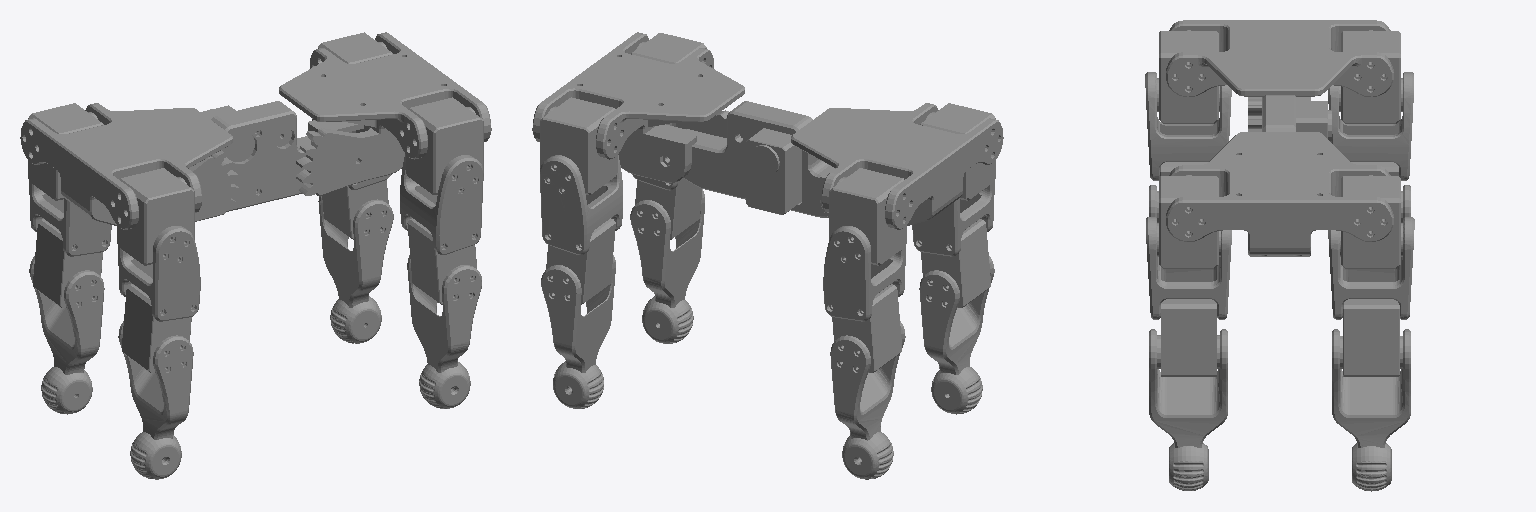
The robot description file, URDF, robot "jason_dog":
<?xml version='1.0' encoding='UTF-8'?>
<!-- This URDF was automatically created by SolidWorks to URDF Exporter! Originally created by Stephen Brawner (brawner@gmail.com) 
     Commit Version: 1.6.0-4-g7f85cfe  Build Version: 1.6.7995.38578
     For more information, please see http://wiki.ros.org/sw_urdf_exporter -->
<robot name="jason_dog">
  <mujoco>
    <compiler
      meshdir="../meshes"
      balanceinertia="true"
      discardvisual="false" />
  </mujoco>
  <link name="base_link">
    <inertial>
      <origin xyz="-0.002290 0.004047 -0.033444" rpy="1.570796 0.000000 0.000000"/>
      <mass value="0.130442285061594"/>
      <inertia ixx="4.245535e-05" ixy="5.712817e-06" ixz="4.594367e-06" iyy="1.484371e-04" iyz="-2.758932e-06" izz="1.306267e-04"/>
    </inertial>
    <visual>
      <origin xyz="0.000000 0.000000 0.000000" rpy="1.570796 0.000000 0.000000"/>
      <geometry>
        <mesh filename="../meshes/base_link.STL"/>
      </geometry>
      <material name="">
        <color rgba="0.627450980392157 0.627450980392157 0.627450980392157 1"/>
      </material>
    </visual>
    <collision>
      <origin xyz="0.000000 0.000000 0.000000" rpy="1.570796 0.000000 0.000000"/>
      <geometry>
        <mesh filename="../meshes/base_link.STL"/>
      </geometry>
    </collision>
  </link>
  <link name="front_link">
    <inertial>
      <origin xyz="0.028726 -0.000635 0.020681" rpy="1.570796 0.000000 0.000000"/>
      <mass value="0.184615067676117"/>
      <inertia ixx="1.411541e-04" ixy="-5.743146e-06" ixz="-8.460480e-06" iyy="1.595492e-04" iyz="-1.957500e-06" izz="2.145533e-04"/>
    </inertial>
    <visual>
      <origin xyz="0.000000 0.000000 0.000000" rpy="1.570796 0.000000 0.000000"/>
      <geometry>
        <mesh filename="../meshes/front_link.STL"/>
      </geometry>
      <material name="">
        <color rgba="0.627450980392157 0.627450980392157 0.627450980392157 1"/>
      </material>
    </visual>
    <collision>
      <origin xyz="0.000000 0.000000 0.000000" rpy="1.570796 0.000000 0.000000"/>
      <geometry>
        <mesh filename="../meshes/front_link.STL"/>
      </geometry>
    </collision>
  </link>
  <joint name="front_joint" type="revolute">
    <origin xyz="0.064338 -0.000000 -0.040039" rpy="0 0 0"/>
    <parent link="base_link"/>
    <child link="front_link"/>
    <axis xyz="0 -1 0"/>
    <limit lower="-3.14" upper="3.14" effort="0" velocity="0"/>
  </joint>
  <link name="FR_hip_link">
    <inertial>
      <origin xyz="-0.019200 0.000000 -0.012026" rpy="1.570796 0.000000 0.000000"/>
      <mass value="0.0611355787912187"/>
      <inertia ixx="1.751372e-05" ixy="3.702329e-13" ixz="3.907029e-12" iyy="1.746902e-05" iyz="2.144316e-13" izz="1.329902e-05"/>
    </inertial>
    <visual>
      <origin xyz="0.000000 0.000000 0.000000" rpy="1.570796 0.000000 0.000000"/>
      <geometry>
        <mesh filename="../meshes/FR_hip_link.STL"/>
      </geometry>
      <material name="">
        <color rgba="0.627450980392157 0.627450980392157 0.627450980392157 1"/>
      </material>
    </visual>
    <collision>
      <origin xyz="0.000000 0.000000 0.000000" rpy="1.570796 0.000000 0.000000"/>
      <geometry>
        <mesh filename="../meshes/FR_hip_link.STL"/>
      </geometry>
    </collision>
  </link>
  <joint name="FR_hip_joint" type="revolute">
    <origin xyz="0.060200 -0.055000 0.027000" rpy="0 0 0"/>
    <parent link="front_link"/>
    <child link="FR_hip_link"/>
    <axis xyz="1 0 0"/>
    <limit lower="-3.14" upper="3.14" effort="0" velocity="0"/>
  </joint>
  <link name="FR_thigh_link">
    <inertial>
      <origin xyz="-0.001902 0.019350 -0.047685" rpy="1.570796 0.000000 0.000000"/>
      <mass value="0.0746776466092141"/>
      <inertia ixx="6.209160e-05" ixy="2.251737e-11" ixz="1.264237e-06" iyy="5.199707e-05" iyz="1.887311e-10" izz="2.176891e-05"/>
    </inertial>
    <visual>
      <origin xyz="0.000000 0.000000 0.000000" rpy="1.570796 0.000000 0.000000"/>
      <geometry>
        <mesh filename="../meshes/FR_thigh_link.STL"/>
      </geometry>
      <material name="">
        <color rgba="0.627450980392157 0.627450980392157 0.627450980392157 1"/>
      </material>
    </visual>
    <collision>
      <origin xyz="0.000000 0.000000 0.000000" rpy="1.570796 0.000000 0.000000"/>
      <geometry>
        <mesh filename="../meshes/FR_thigh_link.STL"/>
      </geometry>
    </collision>
  </link>
  <joint name="FR_thigh_joint" type="revolute">
    <origin xyz="-0.019000 -0.019200 -0.024000" rpy="0 0 0"/>
    <parent link="FR_hip_link"/>
    <child link="FR_thigh_link"/>
    <axis xyz="0 -1 0"/>
    <limit lower="-3.14" upper="3.14" effort="0" velocity="0"/>
  </joint>
  <link name="FR_calf_link">
    <inertial>
      <origin xyz="-0.001793 0.019360 -0.046374" rpy="1.570796 0.000000 0.000000"/>
      <mass value="0.0410076005005065"/>
      <inertia ixx="3.651085e-05" ixy="-7.379921e-10" ixz="8.087944e-07" iyy="3.082907e-05" iyz="1.185545e-08" izz="9.002190e-06"/>
    </inertial>
    <visual>
      <origin xyz="0.000000 0.000000 0.000000" rpy="1.570796 0.000000 0.000000"/>
      <geometry>
        <mesh filename="../meshes/FR_calf_link.STL"/>
      </geometry>
      <material name="">
        <color rgba="0.627450980392157 0.627450980392157 0.627450980392157 1"/>
      </material>
    </visual>
    <collision>
      <origin xyz="0.000000 0.000000 0.000000" rpy="1.570796 0.000000 0.000000"/>
      <geometry>
        <mesh filename="../meshes/FR_calf_link.STL"/>
      </geometry>
    </collision>
  </link>
  <joint name="FR_calf_joint" type="revolute">
    <origin xyz="-0.000200 -0.000200 -0.075000" rpy="0 0 0"/>
    <parent link="FR_thigh_link"/>
    <child link="FR_calf_link"/>
    <axis xyz="0 -1 0"/>
    <limit lower="-3.14" upper="3.14" effort="0" velocity="0"/>
  </joint>
  <link name="FL_hip_link">
    <inertial>
      <origin xyz="-0.019000 -0.000000 -0.012026" rpy="1.570796 0.000000 0.000000"/>
      <mass value="0.0611355927369993"/>
      <inertia ixx="1.751373e-05" ixy="-2.057304e-12" ixz="3.818614e-12" iyy="1.746903e-05" iyz="-3.939114e-13" izz="1.329902e-05"/>
    </inertial>
    <visual>
      <origin xyz="0.000000 0.000000 0.000000" rpy="1.570796 0.000000 0.000000"/>
      <geometry>
        <mesh filename="../meshes/FL_hip_link.STL"/>
      </geometry>
      <material name="">
        <color rgba="0.627450980392157 0.627450980392157 0.627450980392157 1"/>
      </material>
    </visual>
    <collision>
      <origin xyz="0.000000 0.000000 0.000000" rpy="1.570796 0.000000 0.000000"/>
      <geometry>
        <mesh filename="../meshes/FL_hip_link.STL"/>
      </geometry>
    </collision>
  </link>
  <joint name="FL_hip_joint" type="revolute">
    <origin xyz="0.060200 0.055000 0.027000" rpy="0 0 0"/>
    <parent link="front_link"/>
    <child link="FL_hip_link"/>
    <axis xyz="1 0 0"/>
    <limit lower="-3.14" upper="3.14" effort="0" velocity="0"/>
  </joint>
  <link name="FL_thigh_link">
    <inertial>
      <origin xyz="-0.001702 -0.018950 -0.047685" rpy="1.570796 0.000000 0.000000"/>
      <mass value="0.0746776095700565"/>
      <inertia ixx="6.209159e-05" ixy="4.147773e-12" ixz="1.264231e-06" iyy="5.199706e-05" iyz="2.860692e-10" izz="2.176889e-05"/>
    </inertial>
    <visual>
      <origin xyz="0.000000 0.000000 0.000000" rpy="1.570796 0.000000 0.000000"/>
      <geometry>
        <mesh filename="../meshes/FL_thigh_link.STL"/>
      </geometry>
      <material name="">
        <color rgba="0.627450980392157 0.627450980392157 0.627450980392157 1"/>
      </material>
    </visual>
    <collision>
      <origin xyz="0.000000 0.000000 0.000000" rpy="1.570796 0.000000 0.000000"/>
      <geometry>
        <mesh filename="../meshes/FL_thigh_link.STL"/>
      </geometry>
    </collision>
  </link>
  <joint name="FL_thigh_joint" type="revolute">
    <origin xyz="-0.019000 0.019200 -0.024000" rpy="0 0 0"/>
    <parent link="FL_hip_link"/>
    <child link="FL_thigh_link"/>
    <axis xyz="0 -1 0"/>
    <limit lower="-3.14" upper="3.14" effort="0" velocity="0"/>
  </joint>
  <link name="FL_calf_link">
    <inertial>
      <origin xyz="-0.001793 -0.019160 -0.046374" rpy="1.570796 0.000000 0.000000"/>
      <mass value="0.0410075916655381"/>
      <inertia ixx="3.651088e-05" ixy="7.283229e-10" ixz="8.087990e-07" iyy="3.082910e-05" iyz="-1.175964e-08" izz="9.002190e-06"/>
    </inertial>
    <visual>
      <origin xyz="0.000000 0.000000 0.000000" rpy="1.570796 0.000000 0.000000"/>
      <geometry>
        <mesh filename="../meshes/FL_calf_link.STL"/>
      </geometry>
      <material name="">
        <color rgba="0.627450980392157 0.627450980392157 0.627450980392157 1"/>
      </material>
    </visual>
    <collision>
      <origin xyz="0.000000 0.000000 0.000000" rpy="1.570796 0.000000 0.000000"/>
      <geometry>
        <mesh filename="../meshes/FL_calf_link.STL"/>
      </geometry>
    </collision>
  </link>
  <joint name="FL_calf_joint" type="revolute">
    <origin xyz="0.000000 0.000400 -0.075000" rpy="0 0 0"/>
    <parent link="FL_thigh_link"/>
    <child link="FL_calf_link"/>
    <axis xyz="0 -1 0"/>
    <limit lower="-3.14" upper="3.14" effort="0" velocity="0"/>
  </joint>
  <link name="rear_link">
    <inertial>
      <origin xyz="-0.028749 -0.000634 0.020823" rpy="1.570796 0.000000 0.000000"/>
      <mass value="0.184845508774265"/>
      <inertia ixx="1.406118e-04" ixy="5.681909e-06" ixz="7.325653e-06" iyy="1.586497e-04" iyz="-1.641600e-06" izz="2.144695e-04"/>
    </inertial>
    <visual>
      <origin xyz="0.000000 0.000000 0.000000" rpy="1.570796 0.000000 0.000000"/>
      <geometry>
        <mesh filename="../meshes/rear_link.STL"/>
      </geometry>
      <material name="">
        <color rgba="0.627450980392157 0.627450980392157 0.627450980392157 1"/>
      </material>
    </visual>
    <collision>
      <origin xyz="0.000000 0.000000 0.000000" rpy="1.570796 0.000000 0.000000"/>
      <geometry>
        <mesh filename="../meshes/rear_link.STL"/>
      </geometry>
    </collision>
  </link>
  <joint name="rear_joint" type="revolute">
    <origin xyz="-0.060662 -0.000000 -0.040039" rpy="0 0 0"/>
    <parent link="base_link"/>
    <child link="rear_link"/>
    <axis xyz="0 -1 0"/>
    <limit lower="-3.14" upper="3.14" effort="0" velocity="0"/>
  </joint>
  <link name="RR_hip_link">
    <inertial>
      <origin xyz="0.019000 -0.000000 -0.012026" rpy="1.570796 0.000000 0.000000"/>
      <mass value="0.061135578791219"/>
      <inertia ixx="1.751372e-05" ixy="3.702330e-13" ixz="3.115034e-13" iyy="1.746903e-05" iyz="-3.585852e-12" izz="1.329902e-05"/>
    </inertial>
    <visual>
      <origin xyz="0.000000 0.000000 0.000000" rpy="1.570796 0.000000 0.000000"/>
      <geometry>
        <mesh filename="../meshes/RR_hip_link.STL"/>
      </geometry>
      <material name="">
        <color rgba="0.627450980392157 0.627450980392157 0.627450980392157 1"/>
      </material>
    </visual>
    <collision>
      <origin xyz="0.000000 0.000000 0.000000" rpy="1.570796 0.000000 0.000000"/>
      <geometry>
        <mesh filename="../meshes/RR_hip_link.STL"/>
      </geometry>
    </collision>
  </link>
  <joint name="RR_hip_joint" type="revolute">
    <origin xyz="-0.060000 -0.055000 0.027000" rpy="0 0 0"/>
    <parent link="rear_link"/>
    <child link="RR_hip_link"/>
    <axis xyz="1 0 0"/>
    <limit lower="-3.14" upper="3.14" effort="0" velocity="0"/>
  </joint>
  <link name="RR_thigh_link">
    <inertial>
      <origin xyz="0.001702 0.019150 -0.047685" rpy="1.570796 0.000000 0.000000"/>
      <mass value="0.0746773882614897"/>
      <inertia ixx="6.209169e-05" ixy="6.598184e-12" ixz="-1.264205e-06" iyy="5.199717e-05" iyz="-2.938705e-10" izz="2.176892e-05"/>
    </inertial>
    <visual>
      <origin xyz="0.000000 0.000000 0.000000" rpy="1.570796 0.000000 0.000000"/>
      <geometry>
        <mesh filename="../meshes/RR_thigh_link.STL"/>
      </geometry>
      <material name="">
        <color rgba="0.627450980392157 0.627450980392157 0.627450980392157 1"/>
      </material>
    </visual>
    <collision>
      <origin xyz="0.000000 0.000000 0.000000" rpy="1.570796 0.000000 0.000000"/>
      <geometry>
        <mesh filename="../meshes/RR_thigh_link.STL"/>
      </geometry>
    </collision>
  </link>
  <joint name="RR_thigh_joint" type="revolute">
    <origin xyz="0.019000 -0.019200 -0.024000" rpy="0 0 0"/>
    <parent link="RR_hip_link"/>
    <child link="RR_thigh_link"/>
    <axis xyz="0 1 -0"/>
    <limit lower="-3.14" upper="3.14" effort="0" velocity="0"/>
  </joint>
  <link name="RR_calf_link">
    <inertial>
      <origin xyz="0.001793 0.019160 -0.046374" rpy="1.570796 0.000000 0.000000"/>
      <mass value="0.0410075780181199"/>
      <inertia ixx="3.651086e-05" ixy="7.306164e-10" ixz="-8.087940e-07" iyy="3.082908e-05" iyz="1.176667e-08" izz="9.002184e-06"/>
    </inertial>
    <visual>
      <origin xyz="0.000000 0.000000 0.000000" rpy="1.570796 0.000000 0.000000"/>
      <geometry>
        <mesh filename="../meshes/RR_calf_link.STL"/>
      </geometry>
      <material name="">
        <color rgba="0.627450980392157 0.627450980392157 0.627450980392157 1"/>
      </material>
    </visual>
    <collision>
      <origin xyz="0.000000 0.000000 0.000000" rpy="1.570796 0.000000 0.000000"/>
      <geometry>
        <mesh filename="../meshes/RR_calf_link.STL"/>
      </geometry>
    </collision>
  </link>
  <joint name="RR_calf_joint" type="revolute">
    <origin xyz="0.000000 -0.000200 -0.075000" rpy="0 0 0"/>
    <parent link="RR_thigh_link"/>
    <child link="RR_calf_link"/>
    <axis xyz="0 1 -0"/>
    <limit lower="-3.14" upper="3.14" effort="0" velocity="0"/>
  </joint>
  <link name="RL_hip_link">
    <inertial>
      <origin xyz="0.019000 -0.000000 -0.012026" rpy="1.570796 0.000000 0.000000"/>
      <mass value="0.061135578791219"/>
      <inertia ixx="1.751372e-05" ixy="3.702330e-13" ixz="3.409976e-12" iyy="1.746902e-05" iyz="-3.254754e-13" izz="1.329902e-05"/>
    </inertial>
    <visual>
      <origin xyz="0.000000 0.000000 0.000000" rpy="1.570796 0.000000 0.000000"/>
      <geometry>
        <mesh filename="../meshes/RL_hip_link.STL"/>
      </geometry>
      <material name="">
        <color rgba="0.627450980392157 0.627450980392157 0.627450980392157 1"/>
      </material>
    </visual>
    <collision>
      <origin xyz="0.000000 0.000000 0.000000" rpy="1.570796 0.000000 0.000000"/>
      <geometry>
        <mesh filename="../meshes/RL_hip_link.STL"/>
      </geometry>
    </collision>
  </link>
  <joint name="RL_hip_joint" type="revolute">
    <origin xyz="-0.060000 0.055000 0.027000" rpy="0 0 0"/>
    <parent link="rear_link"/>
    <child link="RL_hip_link"/>
    <axis xyz="1 0 0"/>
    <limit lower="-3.14" upper="3.14" effort="0" velocity="0"/>
  </joint>
  <link name="RL_thigh_link">
    <inertial>
      <origin xyz="0.001702 -0.019150 -0.047685" rpy="1.570796 0.000000 0.000000"/>
      <mass value="0.0746774052689211"/>
      <inertia ixx="6.209169e-05" ixy="2.275874e-11" ixz="-1.264214e-06" iyy="5.199717e-05" iyz="-1.975665e-10" izz="2.176892e-05"/>
    </inertial>
    <visual>
      <origin xyz="0.000000 0.000000 0.000000" rpy="1.570796 0.000000 0.000000"/>
      <geometry>
        <mesh filename="../meshes/RL_thigh_link.STL"/>
      </geometry>
      <material name="">
        <color rgba="0.627450980392157 0.627450980392157 0.627450980392157 1"/>
      </material>
    </visual>
    <collision>
      <origin xyz="0.000000 0.000000 0.000000" rpy="1.570796 0.000000 0.000000"/>
      <geometry>
        <mesh filename="../meshes/RL_thigh_link.STL"/>
      </geometry>
    </collision>
  </link>
  <joint name="RL_thigh_joint" type="revolute">
    <origin xyz="0.019000 0.019200 -0.024000" rpy="0 0 0"/>
    <parent link="RL_hip_link"/>
    <child link="RL_thigh_link"/>
    <axis xyz="0 1 0"/>
    <limit lower="-3.14" upper="3.14" effort="0" velocity="0"/>
  </joint>
  <link name="RL_calf_link">
    <inertial>
      <origin xyz="0.001793 -0.019160 -0.046374" rpy="1.570796 0.000000 0.000000"/>
      <mass value="0.0410075980891143"/>
      <inertia ixx="3.651085e-05" ixy="-7.380374e-10" ixz="-8.087939e-07" iyy="3.082907e-05" iyz="-1.185562e-08" izz="9.002189e-06"/>
    </inertial>
    <visual>
      <origin xyz="0.000000 0.000000 0.000000" rpy="1.570796 0.000000 0.000000"/>
      <geometry>
        <mesh filename="../meshes/RL_calf_link.STL"/>
      </geometry>
      <material name="">
        <color rgba="0.627450980392157 0.627450980392157 0.627450980392157 1"/>
      </material>
    </visual>
    <collision>
      <origin xyz="0.000000 0.000000 0.000000" rpy="1.570796 0.000000 0.000000"/>
      <geometry>
        <mesh filename="../meshes/RL_calf_link.STL"/>
      </geometry>
    </collision>
  </link>
  <joint name="RL_calf_joint" type="revolute">
    <origin xyz="0.000000 0.000200 -0.075000" rpy="0 0 0"/>
    <parent link="RL_thigh_link"/>
    <child link="RL_calf_link"/>
    <axis xyz="0 1 0"/>
    <limit lower="-3.14" upper="3.14" effort="0" velocity="0"/>
  </joint>
</robot>

--- Render facts (derived) ---
The picture shows the robot from 3 angles, left to right: view 1: azimuth 30°, elevation 25°; view 2: azimuth 150°, elevation 25°; view 3: azimuth 270°, elevation 25°; orthographic projection.
Model jason_dog with 15 links and 14 joints (14 revolute), rooted at base_link, posed every joint at zero.
Visible links, largest first — view 1: front_link, rear_link, FR_thigh_link, RR_thigh_link, base_link, FR_calf_link, FL_calf_link, RR_calf_link, RL_calf_link, RL_thigh_link, RR_hip_link, FR_hip_link (+3 smaller); view 2: front_link, rear_link, base_link, FL_thigh_link, RL_thigh_link, FL_calf_link, FR_calf_link, RL_calf_link, RR_calf_link, RR_thigh_link, RL_hip_link, FL_hip_link (+3 smaller); view 3: front_link, rear_link, FL_thigh_link, FR_thigh_link, FL_calf_link, FR_calf_link, RR_thigh_link, RL_thigh_link, FR_hip_link, RL_hip_link, FL_hip_link, RR_hip_link (+1 smaller).
Link boxes in pixels (x1,y1,x2,y2): front_link: [279, 32, 491, 195]; rear_link: [20, 103, 240, 229]; FR_thigh_link: [400, 154, 483, 304]; RR_thigh_link: [118, 226, 200, 372]; base_link: [201, 101, 310, 211]; FR_calf_link: [407, 255, 481, 408]; FL_calf_link: [318, 196, 393, 343]; RR_calf_link: [118, 321, 193, 479]; RL_calf_link: [29, 256, 104, 414]; RL_thigh_link: [29, 181, 111, 307]; RR_hip_link: [117, 168, 194, 265]; FR_hip_link: [406, 97, 483, 194]; front_link: [532, 32, 744, 182]; rear_link: [791, 103, 1003, 229]; base_link: [684, 101, 833, 217]; FL_thigh_link: [540, 155, 622, 304]; RL_thigh_link: [823, 226, 905, 372]; FL_calf_link: [541, 255, 615, 408]; FR_calf_link: [630, 189, 704, 343]; RL_calf_link: [830, 321, 905, 479]; RR_calf_link: [919, 256, 994, 414]; RR_thigh_link: [912, 181, 994, 307]; RL_hip_link: [829, 168, 906, 265]; FL_hip_link: [540, 97, 617, 194]; front_link: [1166, 132, 1393, 256]; rear_link: [1166, 20, 1393, 131]; FL_thigh_link: [1328, 217, 1414, 376]; FR_thigh_link: [1146, 217, 1231, 376]; FL_calf_link: [1332, 329, 1410, 491]; FR_calf_link: [1149, 329, 1227, 490]; RR_thigh_link: [1145, 72, 1231, 222]; RL_thigh_link: [1328, 72, 1413, 222]; FR_hip_link: [1157, 175, 1220, 268]; RL_hip_link: [1339, 30, 1402, 123]; FL_hip_link: [1340, 175, 1402, 268]; RR_hip_link: [1157, 30, 1219, 123].
Size in the robot's own frame: 0.259 by 0.1628 by 0.2039 metres.
Meshes: 15 distinct files referenced, 15 mesh visuals loaded (15 binary STL).
